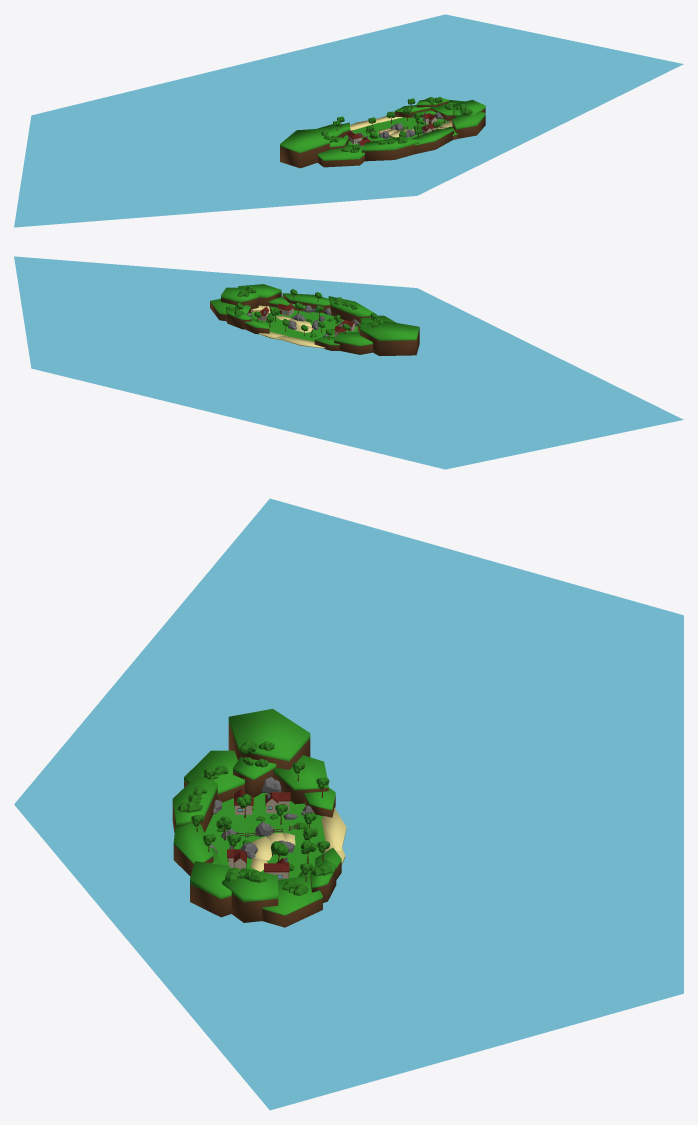
File: Map.fbx
The picture shows the model from 3 angles, top to bottom: view 1: azimuth 30°, elevation 25°; view 2: azimuth 150°, elevation 25°; view 3: azimuth 270°, elevation 25°; orthographic projection. The views are drawn at different scales.
Parts seen in each view (by area): view 1: Map; view 2: Map; view 3: Map.
Boxes of the visible parts, bbox=[...] form: Map: bbox=[14, 14, 683, 227]; Map: bbox=[14, 256, 683, 469]; Map: bbox=[14, 498, 683, 1110].
Bounding box in the file's own units: 102838 × 7857 × 47573.
